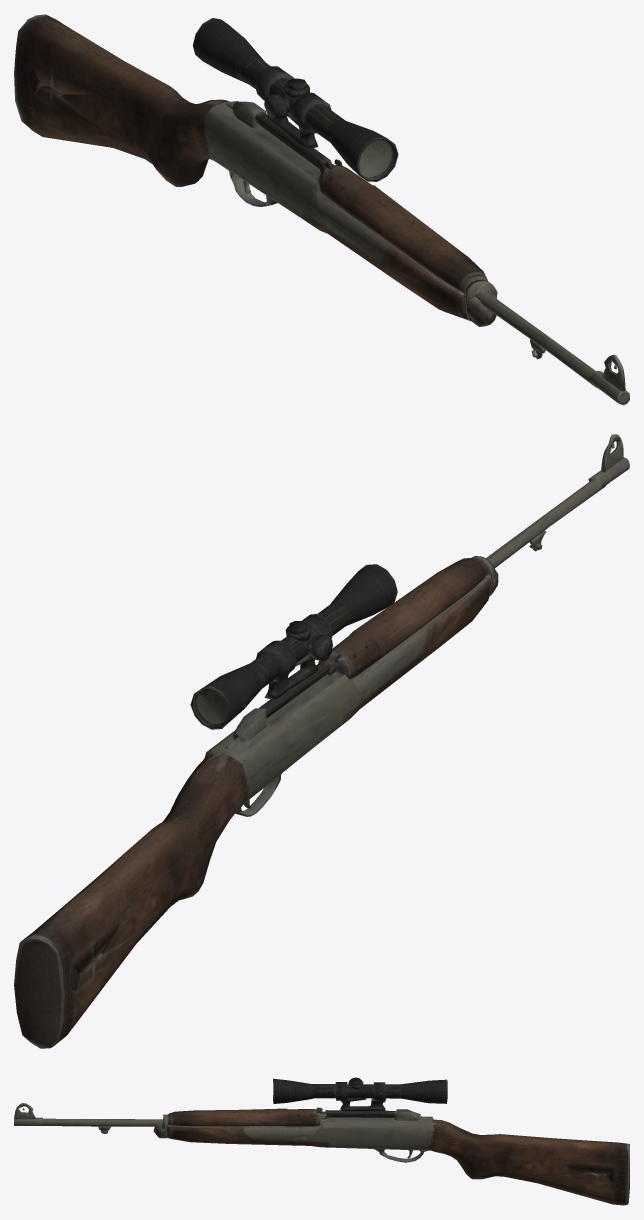
File: m1-carbine.fbx
3 renders of one model, top to bottom at view 1: azimuth 30°, elevation 25°; view 2: azimuth 150°, elevation 25°; view 3: azimuth 270°, elevation 25°, orthographic. The views are drawn at different scales.
Parts seen in each view (by area): view 1: m1-carbine; view 2: m1-carbine; view 3: m1-carbine.
Boxes of the visible parts, x1,y1,x2,y2 form: m1-carbine: (14,14,629,405); m1-carbine: (14,434,629,1048); m1-carbine: (14,1077,629,1205).
Size of the model in its own units: 4.57 by 20.22 by 90.4.
Materials: 1 (1 with a texture image).
